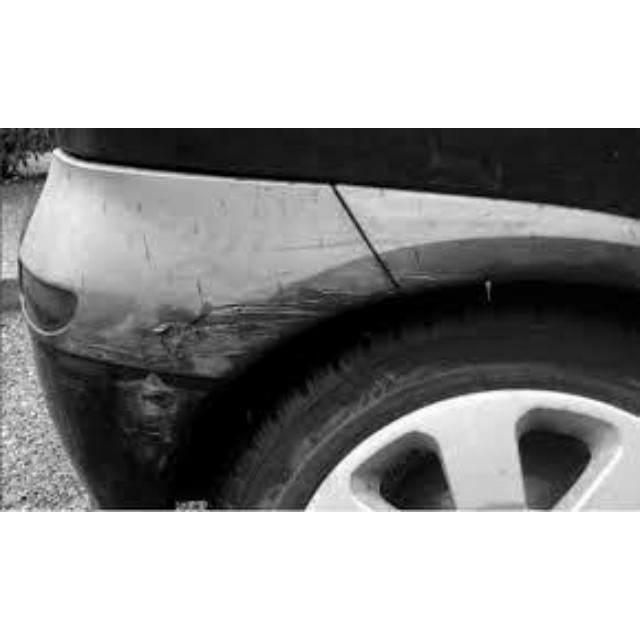rear-bumper-dent: (9, 151, 351, 506)
